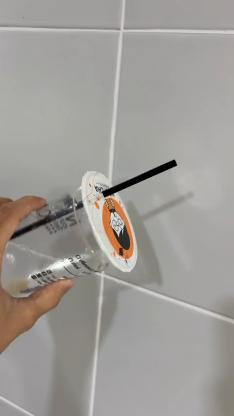Plastic Cup: (2, 170, 140, 302)
